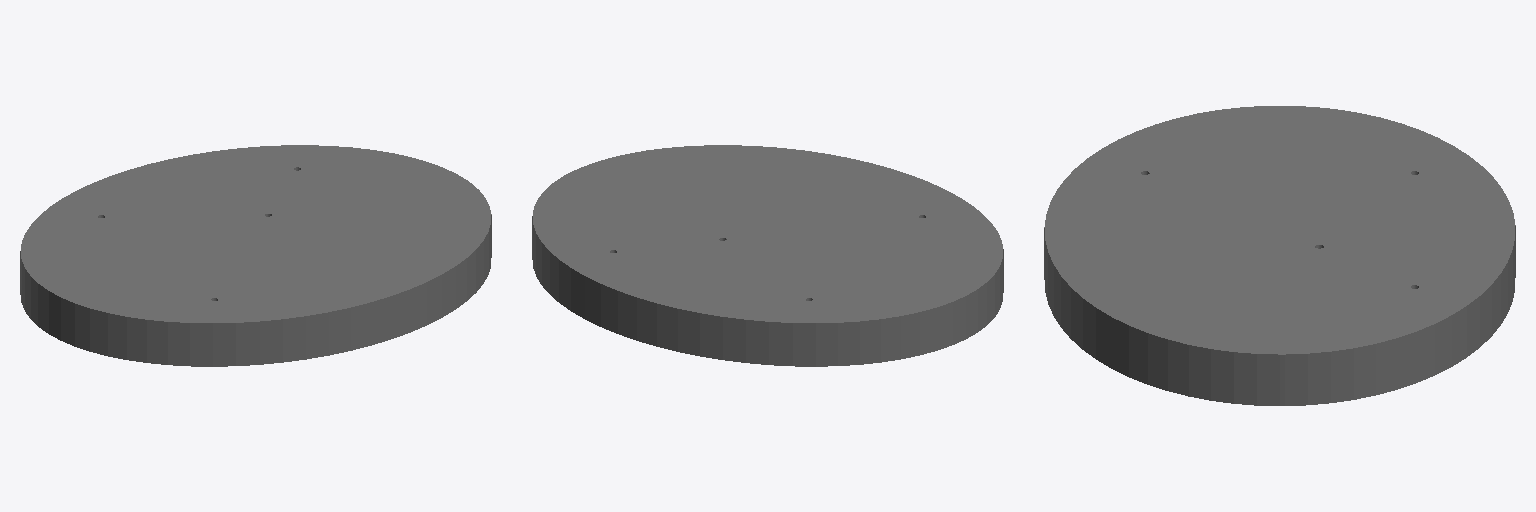
robot.urdf — push_object:
<?xml version="1.0" ?>
<robot name="push_object">
  <link name="link_x">
    <inertial>
      <mass value="0"/>
      <inertia ixx="1.0" ixy="0.0" ixz="0.0" iyy="1.0" iyz="0.0" izz="1.0"/>
    </inertial>
  </link>

  <link name="link_y">
    <inertial>
      <mass value="0"/>
      <inertia ixx="1.0" ixy="0.0" ixz="0.0" iyy="1.0" iyz="0.0" izz="1.0"/>
    </inertial>
  </link>
  
  <link name="link_z">
    <inertial>
      <mass value="0"/>
      <inertia ixx="1.0" ixy="0.0" ixz="0.0" iyy="1.0" iyz="0.0" izz="1.0"/>
    </inertial>
  </link>
  
  <link name="link_yaw">
    <inertial>
      <mass value="0"/>
      <inertia ixx="1.0" ixy="0.0" ixz="0.0" iyy="1.0" iyz="0.0" izz="1.0"/>
    </inertial>
  </link>

  <link name="link_object">
    <contact>
      <rolling_friction value="0.03"/>
      <spinning_friction value="0.03"/>
    </contact>

    <inertial>
      <origin rpy="0 0 0" xyz="0 0 0"/>
       <mass value="0.006350"/>
       <inertia ixx="1" ixy="0" ixz="0" iyy="1" iyz="0" izz="1.110000"/>
    </inertial>
    <visual>
      <origin rpy="0 0 0" xyz="0 0 0.001950"/>
      <geometry>
        <mesh filename="ellip2.obj" scale="1.0 1.0 1.0"/>      
      </geometry>
      <material name="gray">
        <color rgba="0.5 0.5 0.5 1"/>
        <specular rgb="1 1 1"/>
      </material>
    </visual>
    
    <collision>
      <origin rpy="0 0 0" xyz="-0.0600 -0.0200 -0.0063"/>
      <geometry>
        <sphere radius="0.0065"/>
      </geometry>
    </collision>
        
    <collision>
      <origin rpy="0 0 0" xyz="-0.0600 -0.0100 -0.0063"/>
      <geometry>
        <sphere radius="0.0065"/>
      </geometry>
    </collision>
        
    <collision>
      <origin rpy="0 0 0" xyz="-0.0600 0.0000 -0.0063"/>
      <geometry>
        <sphere radius="0.0065"/>
      </geometry>
    </collision>
        
    <collision>
      <origin rpy="0 0 0" xyz="-0.0600 0.0100 -0.0063"/>
      <geometry>
        <sphere radius="0.0065"/>
      </geometry>
    </collision>
        
    <collision>
      <origin rpy="0 0 0" xyz="-0.0600 0.0200 -0.0063"/>
      <geometry>
        <sphere radius="0.0065"/>
      </geometry>
    </collision>
        
    <collision>
      <origin rpy="0 0 0" xyz="-0.0500 -0.0300 -0.0063"/>
      <geometry>
        <sphere radius="0.0065"/>
      </geometry>
    </collision>
        
    <collision>
      <origin rpy="0 0 0" xyz="-0.0500 -0.0200 -0.0063"/>
      <geometry>
        <sphere radius="0.0065"/>
      </geometry>
    </collision>
        
    <collision>
      <origin rpy="0 0 0" xyz="-0.0500 -0.0100 -0.0063"/>
      <geometry>
        <sphere radius="0.0065"/>
      </geometry>
    </collision>
        
    <collision>
      <origin rpy="0 0 0" xyz="-0.0500 0.0000 -0.0063"/>
      <geometry>
        <sphere radius="0.0065"/>
      </geometry>
    </collision>
        
    <collision>
      <origin rpy="0 0 0" xyz="-0.0500 0.0100 -0.0063"/>
      <geometry>
        <sphere radius="0.0065"/>
      </geometry>
    </collision>
        
    <collision>
      <origin rpy="0 0 0" xyz="-0.0500 0.0200 -0.0063"/>
      <geometry>
        <sphere radius="0.0065"/>
      </geometry>
    </collision>
        
    <collision>
      <origin rpy="0 0 0" xyz="-0.0500 0.0300 -0.0063"/>
      <geometry>
        <sphere radius="0.0065"/>
      </geometry>
    </collision>
        
    <collision>
      <origin rpy="0 0 0" xyz="-0.0400 -0.0400 -0.0063"/>
      <geometry>
        <sphere radius="0.0065"/>
      </geometry>
    </collision>
        
    <collision>
      <origin rpy="0 0 0" xyz="-0.0400 -0.0300 -0.0063"/>
      <geometry>
        <sphere radius="0.0065"/>
      </geometry>
    </collision>
        
    <collision>
      <origin rpy="0 0 0" xyz="-0.0400 -0.0200 -0.0063"/>
      <geometry>
        <sphere radius="0.0065"/>
      </geometry>
    </collision>
        
    <collision>
      <origin rpy="0 0 0" xyz="-0.0400 -0.0100 -0.0063"/>
      <geometry>
        <sphere radius="0.0065"/>
      </geometry>
    </collision>
        
    <collision>
      <origin rpy="0 0 0" xyz="-0.0400 0.0000 -0.0063"/>
      <geometry>
        <sphere radius="0.0065"/>
      </geometry>
    </collision>
        
    <collision>
      <origin rpy="0 0 0" xyz="-0.0400 0.0100 -0.0063"/>
      <geometry>
        <sphere radius="0.0065"/>
      </geometry>
    </collision>
        
    <collision>
      <origin rpy="0 0 0" xyz="-0.0400 0.0200 -0.0063"/>
      <geometry>
        <sphere radius="0.0065"/>
      </geometry>
    </collision>
        
    <collision>
      <origin rpy="0 0 0" xyz="-0.0400 0.0300 -0.0063"/>
      <geometry>
        <sphere radius="0.0065"/>
      </geometry>
    </collision>
        
    <collision>
      <origin rpy="0 0 0" xyz="-0.0400 0.0400 -0.0063"/>
      <geometry>
        <sphere radius="0.0065"/>
      </geometry>
    </collision>
        
    <collision>
      <origin rpy="0 0 0" xyz="-0.0300 -0.0400 -0.0063"/>
      <geometry>
        <sphere radius="0.0065"/>
      </geometry>
    </collision>
        
    <collision>
      <origin rpy="0 0 0" xyz="-0.0300 -0.0300 -0.0063"/>
      <geometry>
        <sphere radius="0.0065"/>
      </geometry>
    </collision>
        
    <collision>
      <origin rpy="0 0 0" xyz="-0.0300 -0.0200 -0.0063"/>
      <geometry>
        <sphere radius="0.0065"/>
      </geometry>
    </collision>
        
    <collision>
      <origin rpy="0 0 0" xyz="-0.0300 -0.0100 -0.0063"/>
      <geometry>
        <sphere radius="0.0065"/>
      </geometry>
    </collision>
        
    <collision>
      <origin rpy="0 0 0" xyz="-0.0300 0.0000 -0.0063"/>
      <geometry>
        <sphere radius="0.0065"/>
      </geometry>
    </collision>
        
    <collision>
      <origin rpy="0 0 0" xyz="-0.0300 0.0100 -0.0063"/>
      <geometry>
        <sphere radius="0.0065"/>
      </geometry>
    </collision>
        
    <collision>
      <origin rpy="0 0 0" xyz="-0.0300 0.0200 -0.0063"/>
      <geometry>
        <sphere radius="0.0065"/>
      </geometry>
    </collision>
        
    <collision>
      <origin rpy="0 0 0" xyz="-0.0300 0.0300 -0.0063"/>
      <geometry>
        <sphere radius="0.0065"/>
      </geometry>
    </collision>
        
    <collision>
      <origin rpy="0 0 0" xyz="-0.0300 0.0400 -0.0063"/>
      <geometry>
        <sphere radius="0.0065"/>
      </geometry>
    </collision>
        
    <collision>
      <origin rpy="0 0 0" xyz="-0.0200 -0.0400 -0.0063"/>
      <geometry>
        <sphere radius="0.0065"/>
      </geometry>
    </collision>
        
    <collision>
      <origin rpy="0 0 0" xyz="-0.0200 -0.0300 -0.0063"/>
      <geometry>
        <sphere radius="0.0065"/>
      </geometry>
    </collision>
        
    <collision>
      <origin rpy="0 0 0" xyz="-0.0200 -0.0200 -0.0063"/>
      <geometry>
        <sphere radius="0.0065"/>
      </geometry>
    </collision>
        
    <collision>
      <origin rpy="0 0 0" xyz="-0.0200 -0.0100 -0.0063"/>
      <geometry>
        <sphere radius="0.0065"/>
      </geometry>
    </collision>
        
    <collision>
      <origin rpy="0 0 0" xyz="-0.0200 0.0000 -0.0063"/>
      <geometry>
        <sphere radius="0.0065"/>
      </geometry>
    </collision>
        
    <collision>
      <origin rpy="0 0 0" xyz="-0.0200 0.0100 -0.0063"/>
      <geometry>
        <sphere radius="0.0065"/>
      </geometry>
    </collision>
        
    <collision>
      <origin rpy="0 0 0" xyz="-0.0200 0.0200 -0.0063"/>
      <geometry>
        <sphere radius="0.0065"/>
      </geometry>
    </collision>
        
    <collision>
      <origin rpy="0 0 0" xyz="-0.0200 0.0300 -0.0063"/>
      <geometry>
        <sphere radius="0.0065"/>
      </geometry>
    </collision>
        
    <collision>
      <origin rpy="0 0 0" xyz="-0.0200 0.0400 -0.0063"/>
      <geometry>
        <sphere radius="0.0065"/>
      </geometry>
    </collision>
        
    <collision>
      <origin rpy="0 0 0" xyz="-0.0100 -0.0500 -0.0063"/>
      <geometry>
        <sphere radius="0.0065"/>
      </geometry>
    </collision>
        
    <collision>
      <origin rpy="0 0 0" xyz="-0.0100 -0.0400 -0.0063"/>
      <geometry>
        <sphere radius="0.0065"/>
      </geometry>
    </collision>
        
    <collision>
      <origin rpy="0 0 0" xyz="-0.0100 -0.0300 -0.0063"/>
      <geometry>
        <sphere radius="0.0065"/>
      </geometry>
    </collision>
        
    <collision>
      <origin rpy="0 0 0" xyz="-0.0100 -0.0200 -0.0063"/>
      <geometry>
        <sphere radius="0.0065"/>
      </geometry>
    </collision>
        
    <collision>
      <origin rpy="0 0 0" xyz="-0.0100 -0.0100 -0.0063"/>
      <geometry>
        <sphere radius="0.0065"/>
      </geometry>
    </collision>
        
    <collision>
      <origin rpy="0 0 0" xyz="-0.0100 0.0000 -0.0063"/>
      <geometry>
        <sphere radius="0.0065"/>
      </geometry>
    </collision>
        
    <collision>
      <origin rpy="0 0 0" xyz="-0.0100 0.0100 -0.0063"/>
      <geometry>
        <sphere radius="0.0065"/>
      </geometry>
    </collision>
        
    <collision>
      <origin rpy="0 0 0" xyz="-0.0100 0.0200 -0.0063"/>
      <geometry>
        <sphere radius="0.0065"/>
      </geometry>
    </collision>
        
    <collision>
      <origin rpy="0 0 0" xyz="-0.0100 0.0300 -0.0063"/>
      <geometry>
        <sphere radius="0.0065"/>
      </geometry>
    </collision>
        
    <collision>
      <origin rpy="0 0 0" xyz="-0.0100 0.0400 -0.0063"/>
      <geometry>
        <sphere radius="0.0065"/>
      </geometry>
    </collision>
        
    <collision>
      <origin rpy="0 0 0" xyz="-0.0100 0.0500 -0.0063"/>
      <geometry>
        <sphere radius="0.0065"/>
      </geometry>
    </collision>
        
    <collision>
      <origin rpy="0 0 0" xyz="-0.0000 -0.0500 -0.0063"/>
      <geometry>
        <sphere radius="0.0065"/>
      </geometry>
    </collision>
        
    <collision>
      <origin rpy="0 0 0" xyz="-0.0000 -0.0400 -0.0063"/>
      <geometry>
        <sphere radius="0.0065"/>
      </geometry>
    </collision>
        
    <collision>
      <origin rpy="0 0 0" xyz="-0.0000 -0.0300 -0.0063"/>
      <geometry>
        <sphere radius="0.0065"/>
      </geometry>
    </collision>
        
    <collision>
      <origin rpy="0 0 0" xyz="-0.0000 -0.0200 -0.0063"/>
      <geometry>
        <sphere radius="0.0065"/>
      </geometry>
    </collision>
        
    <collision>
      <origin rpy="0 0 0" xyz="-0.0000 -0.0100 -0.0063"/>
      <geometry>
        <sphere radius="0.0065"/>
      </geometry>
    </collision>
        
    <collision>
      <origin rpy="0 0 0" xyz="-0.0000 0.0000 -0.0063"/>
      <geometry>
        <sphere radius="0.0065"/>
      </geometry>
    </collision>
        
    <collision>
      <origin rpy="0 0 0" xyz="-0.0000 0.0100 -0.0063"/>
      <geometry>
        <sphere radius="0.0065"/>
      </geometry>
    </collision>
        
    <collision>
      <origin rpy="0 0 0" xyz="-0.0000 0.0200 -0.0063"/>
      <geometry>
        <sphere radius="0.0065"/>
      </geometry>
    </collision>
        
    <collision>
      <origin rpy="0 0 0" xyz="-0.0000 0.0300 -0.0063"/>
      <geometry>
        <sphere radius="0.0065"/>
      </geometry>
    </collision>
        
    <collision>
      <origin rpy="0 0 0" xyz="-0.0000 0.0400 -0.0063"/>
      <geometry>
        <sphere radius="0.0065"/>
      </geometry>
    </collision>
        
    <collision>
      <origin rpy="0 0 0" xyz="-0.0000 0.0500 -0.0063"/>
      <geometry>
        <sphere radius="0.0065"/>
      </geometry>
    </collision>
        
    <collision>
      <origin rpy="0 0 0" xyz="0.0100 -0.0500 -0.0063"/>
      <geometry>
        <sphere radius="0.0065"/>
      </geometry>
    </collision>
        
    <collision>
      <origin rpy="0 0 0" xyz="0.0100 -0.0400 -0.0063"/>
      <geometry>
        <sphere radius="0.0065"/>
      </geometry>
    </collision>
        
    <collision>
      <origin rpy="0 0 0" xyz="0.0100 -0.0300 -0.0063"/>
      <geometry>
        <sphere radius="0.0065"/>
      </geometry>
    </collision>
        
    <collision>
      <origin rpy="0 0 0" xyz="0.0100 -0.0200 -0.0063"/>
      <geometry>
        <sphere radius="0.0065"/>
      </geometry>
    </collision>
        
    <collision>
      <origin rpy="0 0 0" xyz="0.0100 -0.0100 -0.0063"/>
      <geometry>
        <sphere radius="0.0065"/>
      </geometry>
    </collision>
        
    <collision>
      <origin rpy="0 0 0" xyz="0.0100 0.0000 -0.0063"/>
      <geometry>
        <sphere radius="0.0065"/>
      </geometry>
    </collision>
        
    <collision>
      <origin rpy="0 0 0" xyz="0.0100 0.0100 -0.0063"/>
      <geometry>
        <sphere radius="0.0065"/>
      </geometry>
    </collision>
        
    <collision>
      <origin rpy="0 0 0" xyz="0.0100 0.0200 -0.0063"/>
      <geometry>
        <sphere radius="0.0065"/>
      </geometry>
    </collision>
        
    <collision>
      <origin rpy="0 0 0" xyz="0.0100 0.0300 -0.0063"/>
      <geometry>
        <sphere radius="0.0065"/>
      </geometry>
    </collision>
        
    <collision>
      <origin rpy="0 0 0" xyz="0.0100 0.0400 -0.0063"/>
      <geometry>
        <sphere radius="0.0065"/>
      </geometry>
    </collision>
        
    <collision>
      <origin rpy="0 0 0" xyz="0.0100 0.0500 -0.0063"/>
      <geometry>
        <sphere radius="0.0065"/>
      </geometry>
    </collision>
        
    <collision>
      <origin rpy="0 0 0" xyz="0.0200 -0.0400 -0.0063"/>
      <geometry>
        <sphere radius="0.0065"/>
      </geometry>
    </collision>
        
    <collision>
      <origin rpy="0 0 0" xyz="0.0200 -0.0300 -0.0063"/>
      <geometry>
        <sphere radius="0.0065"/>
      </geometry>
    </collision>
        
    <collision>
      <origin rpy="0 0 0" xyz="0.0200 -0.0200 -0.0063"/>
      <geometry>
        <sphere radius="0.0065"/>
      </geometry>
    </collision>
        
    <collision>
      <origin rpy="0 0 0" xyz="0.0200 -0.0100 -0.0063"/>
      <geometry>
        <sphere radius="0.0065"/>
      </geometry>
    </collision>
        
    <collision>
      <origin rpy="0 0 0" xyz="0.0200 0.0000 -0.0063"/>
      <geometry>
        <sphere radius="0.0065"/>
      </geometry>
    </collision>
        
    <collision>
      <origin rpy="0 0 0" xyz="0.0200 0.0100 -0.0063"/>
      <geometry>
        <sphere radius="0.0065"/>
      </geometry>
    </collision>
        
    <collision>
      <origin rpy="0 0 0" xyz="0.0200 0.0200 -0.0063"/>
      <geometry>
        <sphere radius="0.0065"/>
      </geometry>
    </collision>
        
    <collision>
      <origin rpy="0 0 0" xyz="0.0200 0.0300 -0.0063"/>
      <geometry>
        <sphere radius="0.0065"/>
      </geometry>
    </collision>
        
    <collision>
      <origin rpy="0 0 0" xyz="0.0200 0.0400 -0.0063"/>
      <geometry>
        <sphere radius="0.0065"/>
      </geometry>
    </collision>
        
    <collision>
      <origin rpy="0 0 0" xyz="0.0300 -0.0400 -0.0063"/>
      <geometry>
        <sphere radius="0.0065"/>
      </geometry>
    </collision>
        
    <collision>
      <origin rpy="0 0 0" xyz="0.0300 -0.0300 -0.0063"/>
      <geometry>
        <sphere radius="0.0065"/>
      </geometry>
    </collision>
        
    <collision>
      <origin rpy="0 0 0" xyz="0.0300 -0.0200 -0.0063"/>
      <geometry>
        <sphere radius="0.0065"/>
      </geometry>
    </collision>
        
    <collision>
      <origin rpy="0 0 0" xyz="0.0300 -0.0100 -0.0063"/>
      <geometry>
        <sphere radius="0.0065"/>
      </geometry>
    </collision>
        
    <collision>
      <origin rpy="0 0 0" xyz="0.0300 0.0000 -0.0063"/>
      <geometry>
        <sphere radius="0.0065"/>
      </geometry>
    </collision>
        
    <collision>
      <origin rpy="0 0 0" xyz="0.0300 0.0100 -0.0063"/>
      <geometry>
        <sphere radius="0.0065"/>
      </geometry>
    </collision>
        
    <collision>
      <origin rpy="0 0 0" xyz="0.0300 0.0200 -0.0063"/>
      <geometry>
        <sphere radius="0.0065"/>
      </geometry>
    </collision>
        
    <collision>
      <origin rpy="0 0 0" xyz="0.0300 0.0300 -0.0063"/>
      <geometry>
        <sphere radius="0.0065"/>
      </geometry>
    </collision>
        
    <collision>
      <origin rpy="0 0 0" xyz="0.0300 0.0400 -0.0063"/>
      <geometry>
        <sphere radius="0.0065"/>
      </geometry>
    </collision>
        
    <collision>
      <origin rpy="0 0 0" xyz="0.0400 -0.0400 -0.0063"/>
      <geometry>
        <sphere radius="0.0065"/>
      </geometry>
    </collision>
        
    <collision>
      <origin rpy="0 0 0" xyz="0.0400 -0.0300 -0.0063"/>
      <geometry>
        <sphere radius="0.0065"/>
      </geometry>
    </collision>
        
    <collision>
      <origin rpy="0 0 0" xyz="0.0400 -0.0200 -0.0063"/>
      <geometry>
        <sphere radius="0.0065"/>
      </geometry>
    </collision>
        
    <collision>
      <origin rpy="0 0 0" xyz="0.0400 -0.0100 -0.0063"/>
      <geometry>
        <sphere radius="0.0065"/>
      </geometry>
    </collision>
        
    <collision>
      <origin rpy="0 0 0" xyz="0.0400 0.0000 -0.0063"/>
      <geometry>
        <sphere radius="0.0065"/>
      </geometry>
    </collision>
        
    <collision>
      <origin rpy="0 0 0" xyz="0.0400 0.0100 -0.0063"/>
      <geometry>
        <sphere radius="0.0065"/>
      </geometry>
    </collision>
        
    <collision>
      <origin rpy="0 0 0" xyz="0.0400 0.0200 -0.0063"/>
      <geometry>
        <sphere radius="0.0065"/>
      </geometry>
    </collision>
        
    <collision>
      <origin rpy="0 0 0" xyz="0.0400 0.0300 -0.0063"/>
      <geometry>
        <sphere radius="0.0065"/>
      </geometry>
    </collision>
        
    <collision>
      <origin rpy="0 0 0" xyz="0.0400 0.0400 -0.0063"/>
      <geometry>
        <sphere radius="0.0065"/>
      </geometry>
    </collision>
        
    <collision>
      <origin rpy="0 0 0" xyz="0.0500 -0.0300 -0.0063"/>
      <geometry>
        <sphere radius="0.0065"/>
      </geometry>
    </collision>
        
    <collision>
      <origin rpy="0 0 0" xyz="0.0500 -0.0200 -0.0063"/>
      <geometry>
        <sphere radius="0.0065"/>
      </geometry>
    </collision>
        
    <collision>
      <origin rpy="0 0 0" xyz="0.0500 -0.0100 -0.0063"/>
      <geometry>
        <sphere radius="0.0065"/>
      </geometry>
    </collision>
        
    <collision>
      <origin rpy="0 0 0" xyz="0.0500 0.0000 -0.0063"/>
      <geometry>
        <sphere radius="0.0065"/>
      </geometry>
    </collision>
        
    <collision>
      <origin rpy="0 0 0" xyz="0.0500 0.0100 -0.0063"/>
      <geometry>
        <sphere radius="0.0065"/>
      </geometry>
    </collision>
        
    <collision>
      <origin rpy="0 0 0" xyz="0.0500 0.0200 -0.0063"/>
      <geometry>
        <sphere radius="0.0065"/>
      </geometry>
    </collision>
        
    <collision>
      <origin rpy="0 0 0" xyz="0.0500 0.0300 -0.0063"/>
      <geometry>
        <sphere radius="0.0065"/>
      </geometry>
    </collision>
        
    <collision>
      <origin rpy="0 0 0" xyz="0.0600 -0.0200 -0.0063"/>
      <geometry>
        <sphere radius="0.0065"/>
      </geometry>
    </collision>
        
    <collision>
      <origin rpy="0 0 0" xyz="0.0600 -0.0100 -0.0063"/>
      <geometry>
        <sphere radius="0.0065"/>
      </geometry>
    </collision>
        
    <collision>
      <origin rpy="0 0 0" xyz="0.0600 0.0000 -0.0063"/>
      <geometry>
        <sphere radius="0.0065"/>
      </geometry>
    </collision>
        
    <collision>
      <origin rpy="0 0 0" xyz="0.0600 0.0100 -0.0063"/>
      <geometry>
        <sphere radius="0.0065"/>
      </geometry>
    </collision>
        
    <collision>
      <origin rpy="0 0 0" xyz="0.0600 0.0200 -0.0063"/>
      <geometry>
        <sphere radius="0.0065"/>
      </geometry>
    </collision>
        
  </link>
  
  <joint name="joint_x" type="prismatic">
    <axis xyz="1 0 0"/>
    <origin xyz="0.0 0.0 0"/>
    <parent link="link_x"/>
    <child link="link_y"/>
    <limit effort="1000.0" lower="-15" upper="15" velocity="5"/>
  </joint>

  <joint name="joint_y" type="prismatic">
    <axis xyz="0 1 0"/>
    <origin xyz="0.0 0.0 0"/>
    <parent link="link_y"/>
    <child link="link_z"/>
    <limit effort="1000.0" lower="-15" upper="15" velocity="5"/>
  </joint>

  <joint name="joint_z" type="prismatic">
    <axis xyz="0 0 1"/>
    <origin xyz="0.0 0.0 0"/>
    <parent link="link_z"/>
    <child link="link_yaw"/>
    <limit effort="1000.0" lower="-15" upper="15" velocity="5"/>
  </joint>

  <joint name="joint_yaw" type="continuous">
    <axis xyz="0 0 1"/>
    <origin xyz="0.0 0.0 0"/>
    <parent link="link_yaw"/>
    <child link="link_object"/>
  </joint>
</robot>

--- What the picture shows (computed from the rendered views, not written in the file) ---
Views: 3 orthographic renders of the robot side by side, from view 1: azimuth 30°, elevation 25°; view 2: azimuth 150°, elevation 25°; view 3: azimuth 270°, elevation 25°.
Robot: push_object — 5 links, 4 joints (1 continuous, 3 prismatic); root link link_x; default pose: all joints at 0.
Visible links, largest first — view 1: link_object; view 2: link_object; view 3: link_object.
Boxes of the visible links, x1,y1,x2,y2 form: link_object: [20, 145, 491, 366]; link_object: [532, 145, 1003, 366]; link_object: [1044, 106, 1515, 405].
Bounding box of the posed robot: 0.131 × 0.1048 × 0.0127 m (x, y, z).
1 mesh visuals loaded from 1 distinct referenced files (1 OBJ).